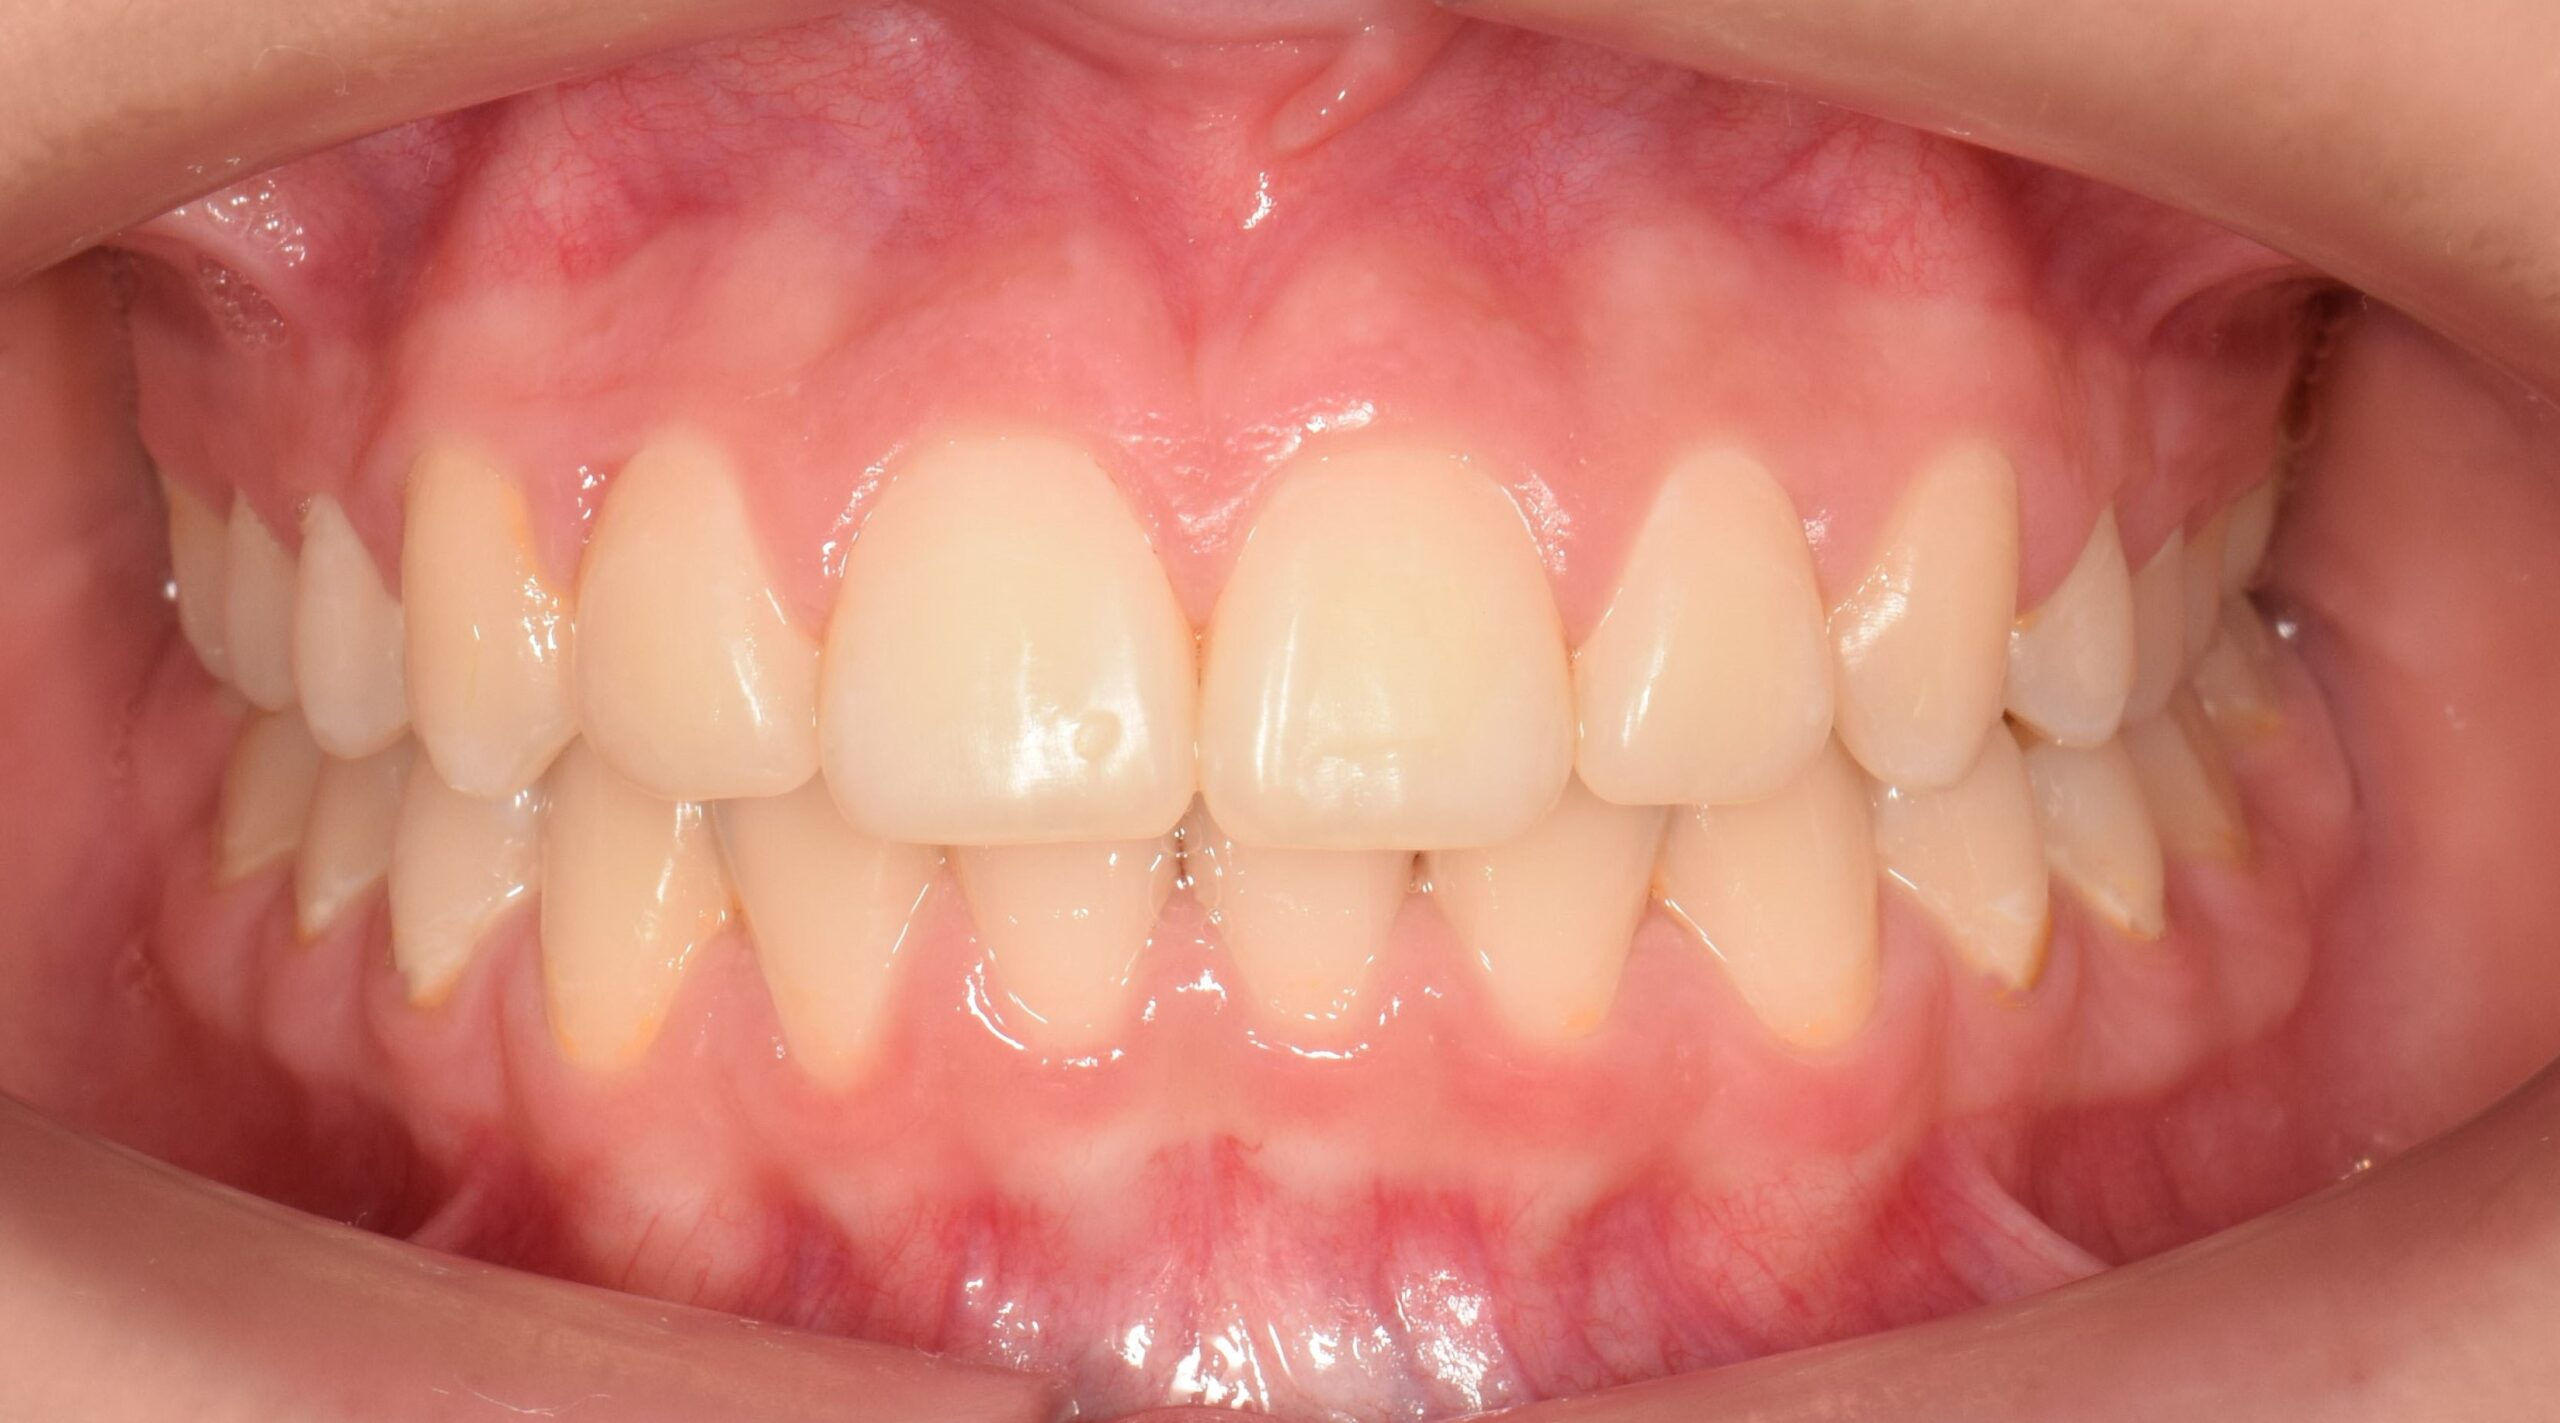LL1BC_healthy: (1880, 789, 2054, 992)
LL1M_healthy: (2153, 713, 2248, 911)
LL2BC_healthy: (2048, 745, 2168, 945)
LLCI_healthy: (1186, 841, 1426, 1032)
LLC_healthy: (1659, 804, 1877, 1053)
LLLI_healthy: (1437, 836, 1665, 1048)
LR1BC_healthy: (392, 792, 533, 999)
LR1M_healthy: (214, 724, 300, 880)
LR2BC_healthy: (300, 762, 401, 950)
LRCI_healthy: (955, 845, 1177, 1053)
LRC_healthy: (536, 787, 725, 1071)
LRLI_healthy: (713, 803, 941, 1085)
UL1BC_healthy: (2013, 513, 2136, 745)
UL1M_healthy: (2182, 506, 2222, 664)
UL2BC_healthy: (2136, 533, 2180, 711)
UL2M_healthy: (2225, 480, 2273, 598)
ULCI_healthy: (1204, 449, 1570, 850)
ULC_healthy: (1838, 438, 2013, 787)
ULLI_healthy: (1570, 452, 1836, 806)
UR1BC_healthy: (294, 498, 400, 759)
UR1M_healthy: (170, 480, 221, 671)
UR2BC_healthy: (223, 494, 293, 717)
URCI_healthy: (825, 442, 1199, 845)
URC_healthy: (405, 452, 575, 797)
URLI_healthy: (575, 442, 825, 794)
